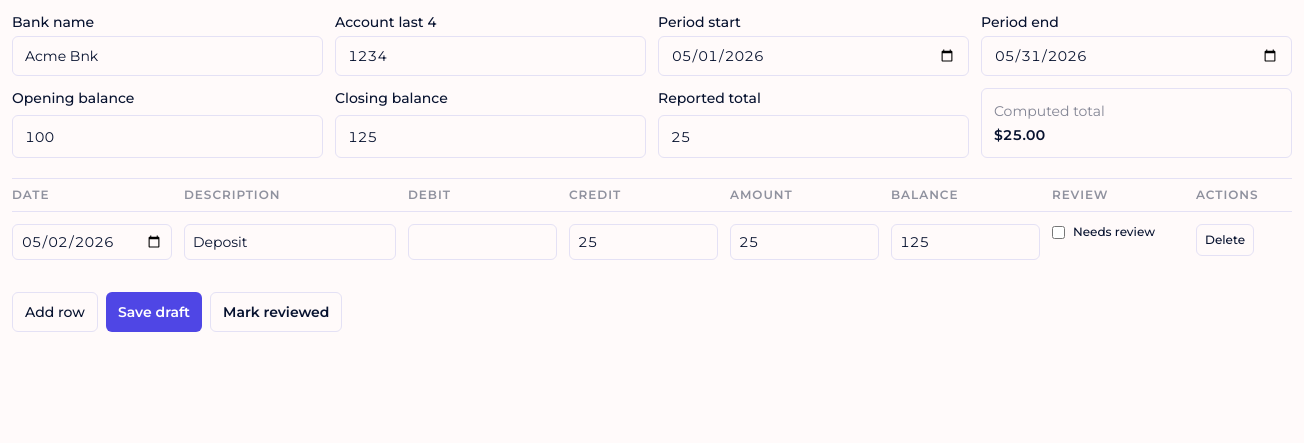
EditableReviewWorkflow › saves statement metadata and edited transaction rows through the statement PATCH route
The image size is (1304, 443).
Clear the field labelled "Bank name": (168, 56) [12,36,323,76]
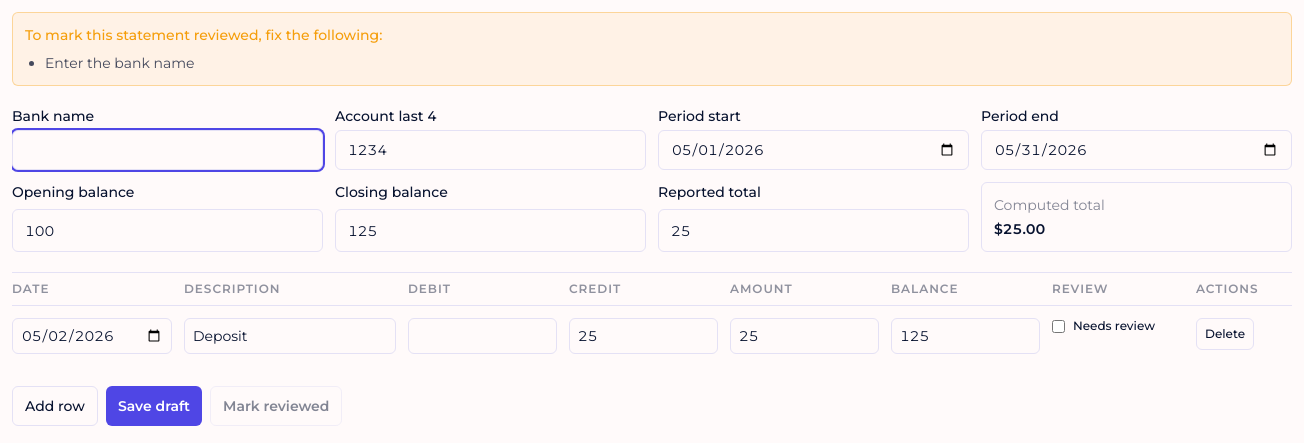
In the field labelled "Bank name": (168, 150) [12,130,323,170], type "Acme Bank"
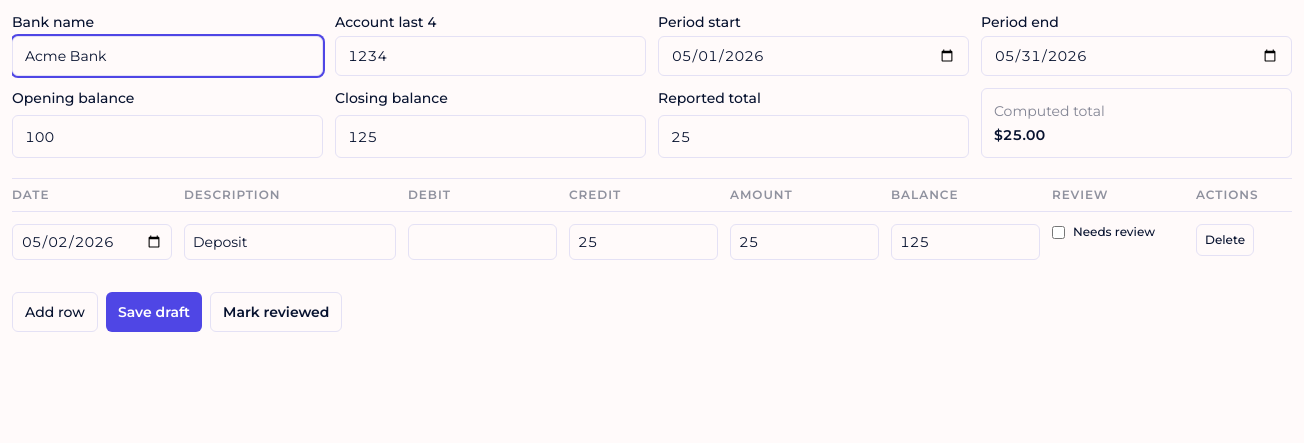
Clear the field named "Row 1 description": (290, 242) [184,224,396,260]
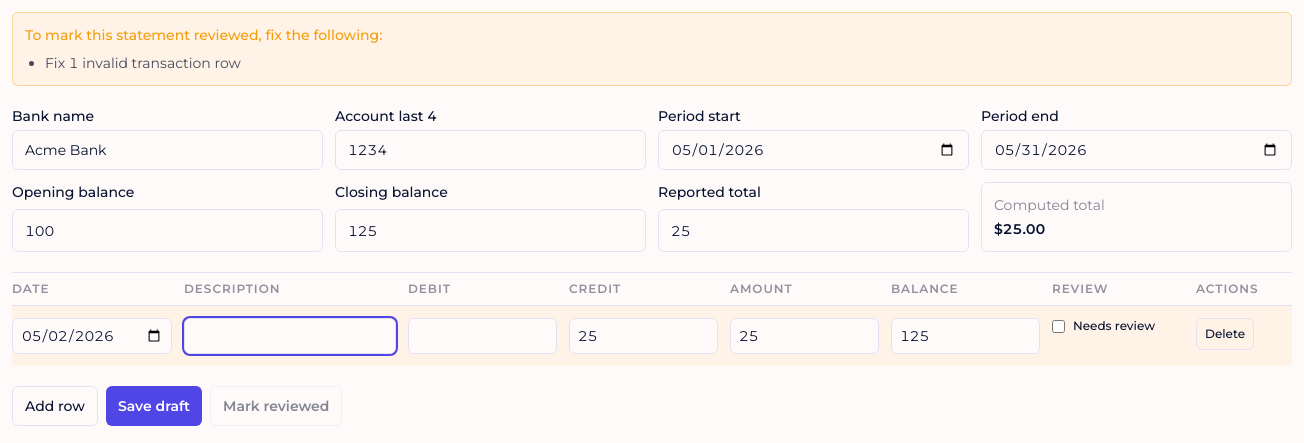
In the field named "Row 1 description": (290, 336) [184,318,396,354], type "Corrected deposit"
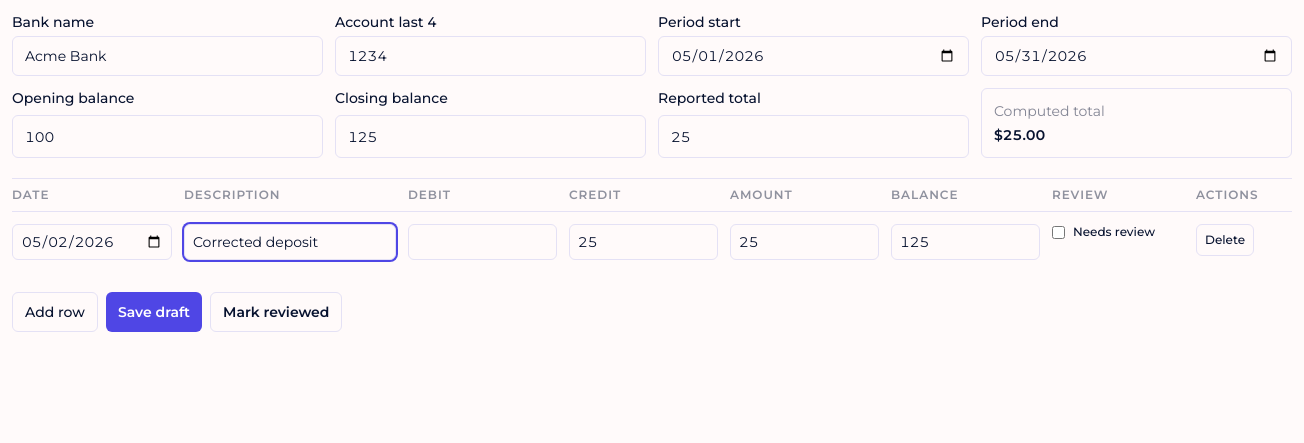
Click the button "Save draft": (154, 312) [106,292,202,332]
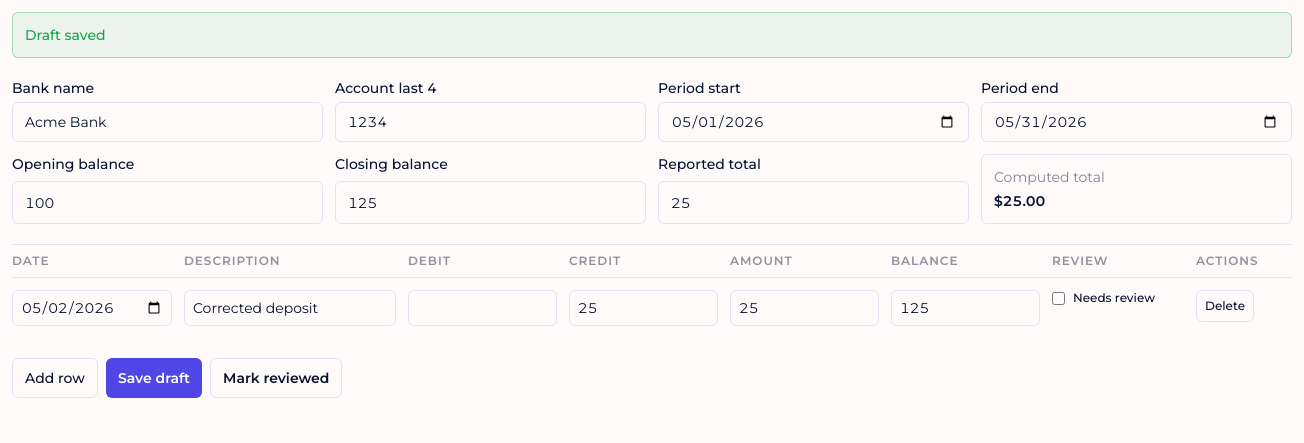
Expected: the message reads "Draft saved", [25,26,106,44]
